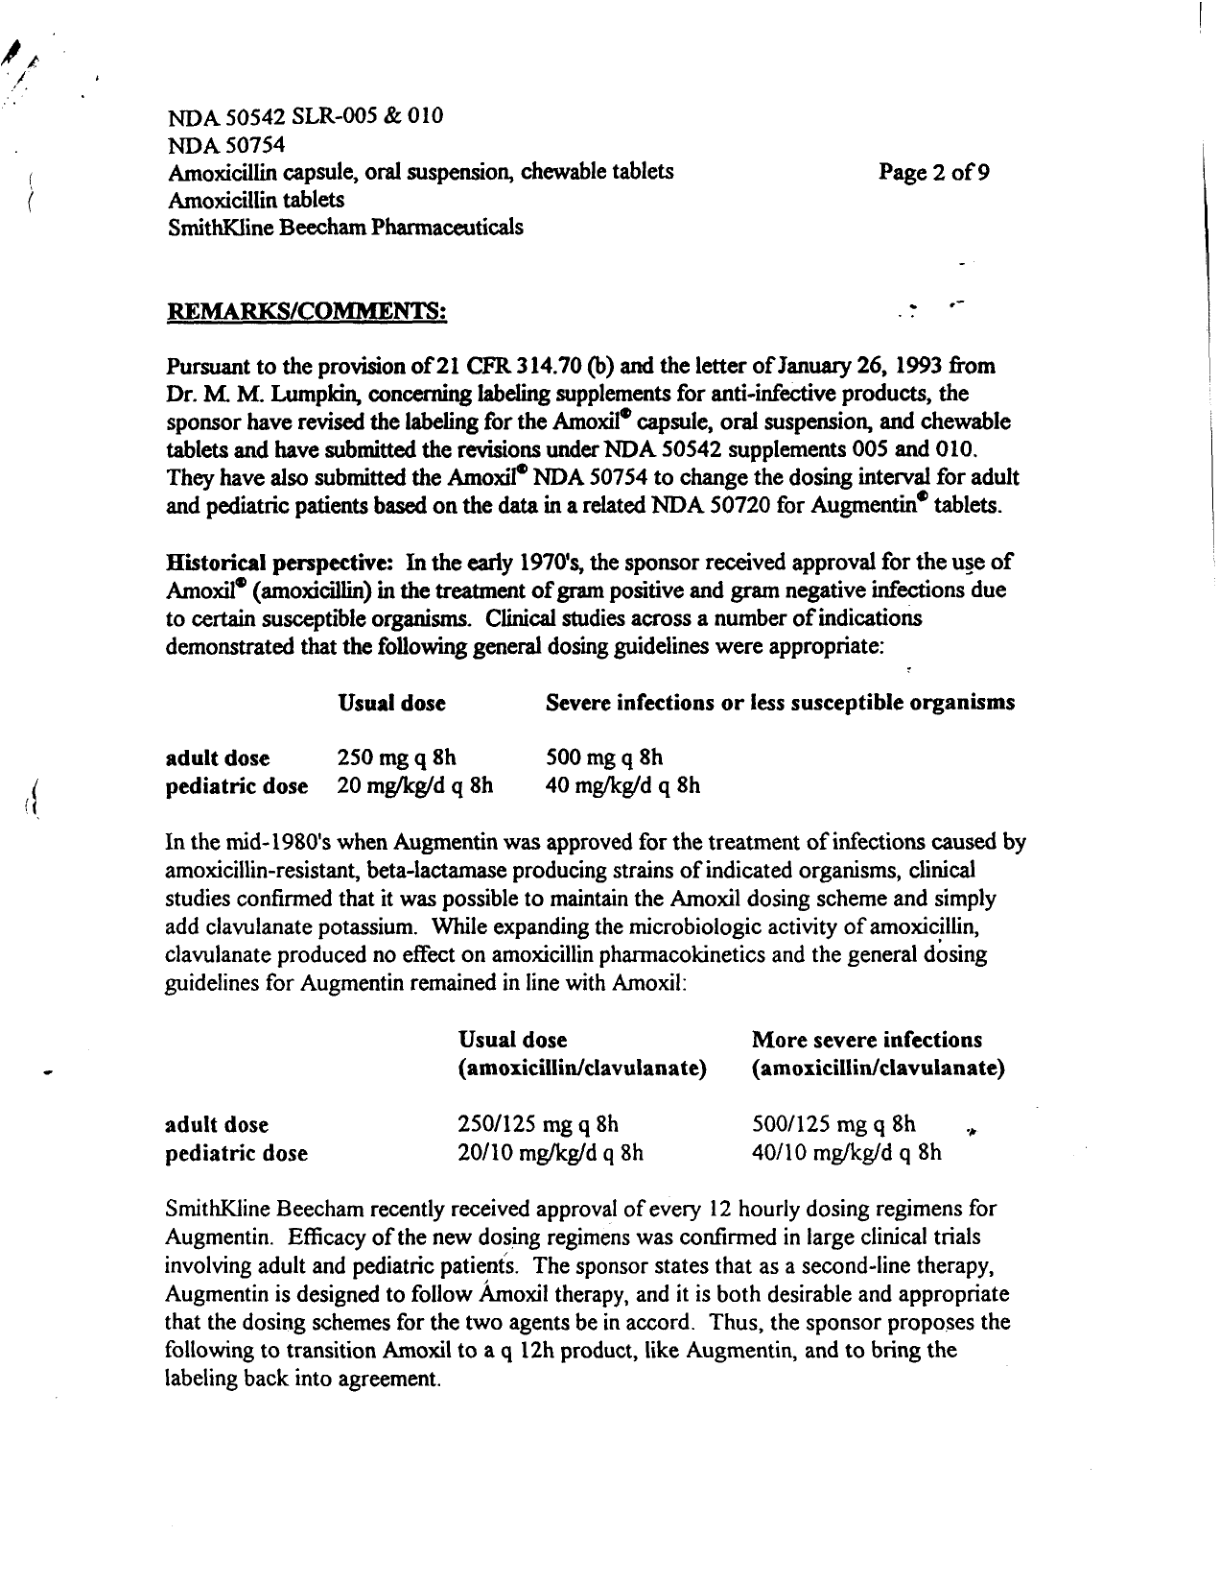nolines: (163, 1027, 1005, 1169), (166, 691, 1020, 801)
